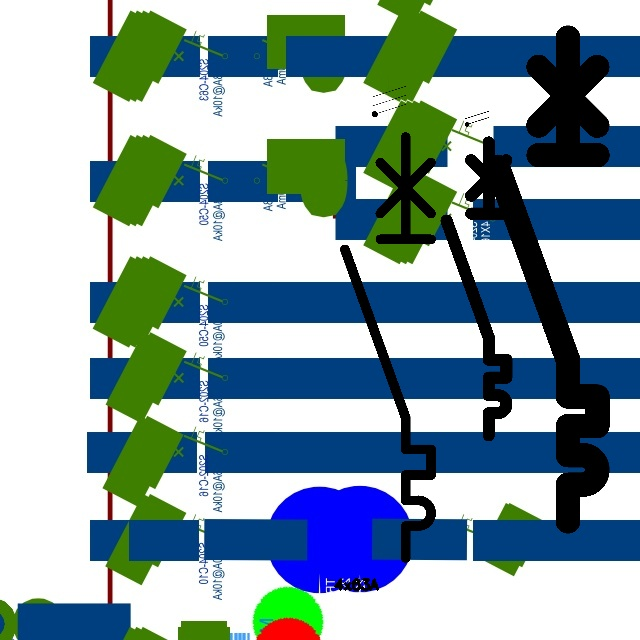interruptor_termomagnetico: (485, 25, 610, 534), (334, 126, 442, 569), (439, 134, 514, 442)
